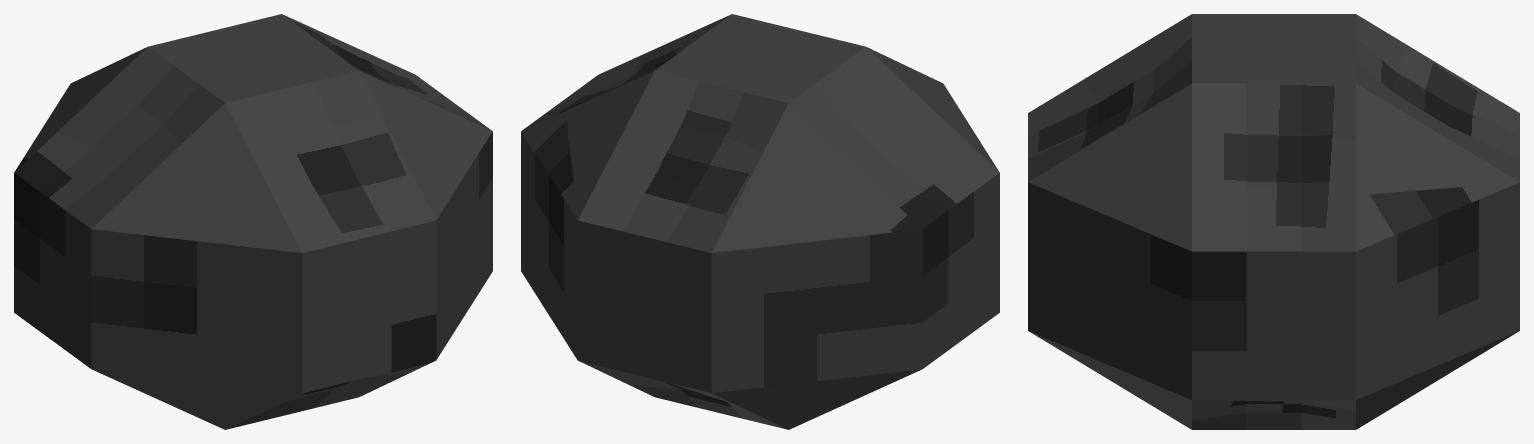
Rendered from asteriod.gltf.
3 views of the same model, side by side, from view 1: azimuth 30°, elevation 25°; view 2: azimuth 150°, elevation 25°; view 3: azimuth 270°, elevation 25° (orthographic). The views are drawn at different scales.
Visible parts, largest first — view 1: body; view 2: body; view 3: body.
Boxes of the visible parts, x1,y1,x2,y2 form: body: (14, 14, 492, 429); body: (521, 14, 999, 429); body: (1028, 14, 1519, 429).
Bounding box in the file's own units: 0.5625 × 0.4375 × 0.5625.
Materials: 1 (1 with a texture image).
